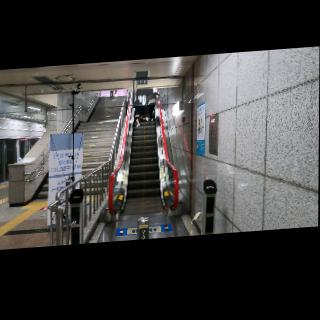normal: (129, 96, 149, 129), (145, 89, 165, 122), (107, 88, 117, 101)
